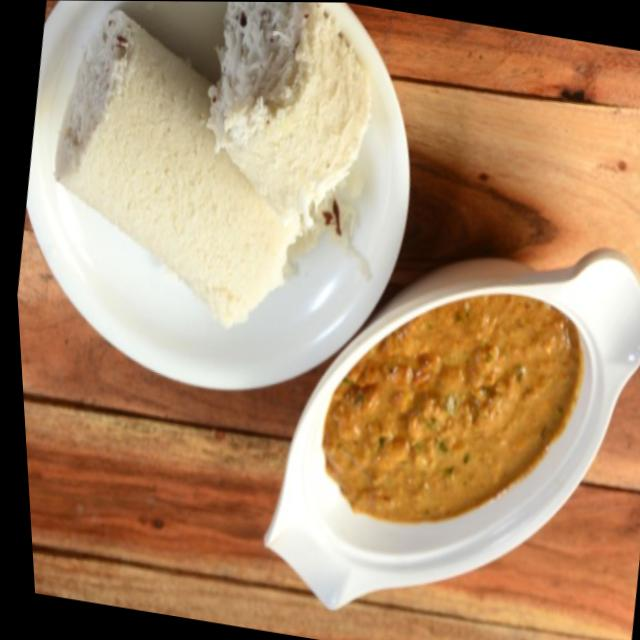KURMA: (305, 299, 602, 545)
PUTTU: (51, 2, 375, 322)
